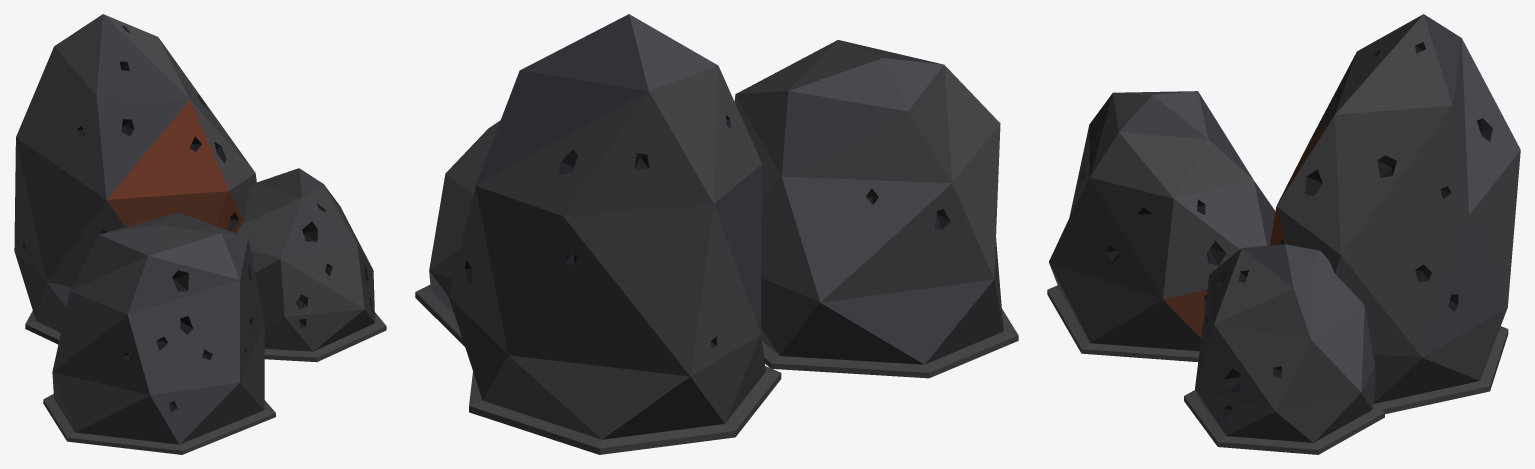
File: volcanic-boulder-cluster-7e29ea.glb
The picture shows the model from 3 angles, left to right: view 1: azimuth 30°, elevation 25°; view 2: azimuth 150°, elevation 25°; view 3: azimuth 270°, elevation 25°; orthographic projection. The views are drawn at different scales.
Parts seen in each view (by area): view 1: boulders; view 2: boulders; view 3: boulders.
Boxes of the visible parts, <box> form: boulders: <box>14,14,386,454</box>; boulders: <box>415,14,1018,454</box>; boulders: <box>1047,14,1520,454</box>.
Bounding box in the file's own units: 1.5 × 1.15 × 1.5.
